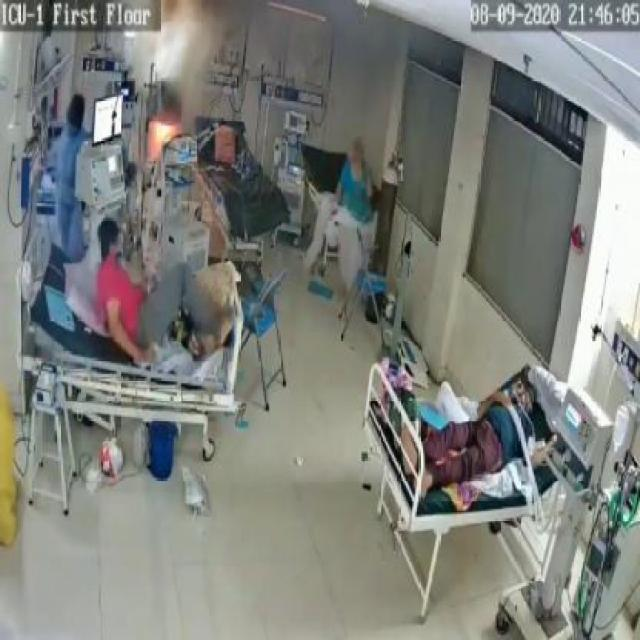fire: (151, 122, 180, 146)
smoke: (166, 0, 222, 100), (168, 2, 223, 101)
